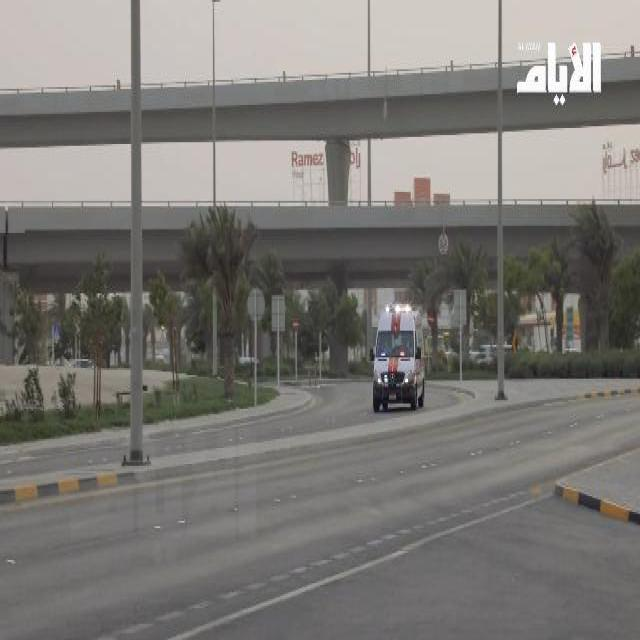emergency-vehicle: (370, 303, 424, 412)
